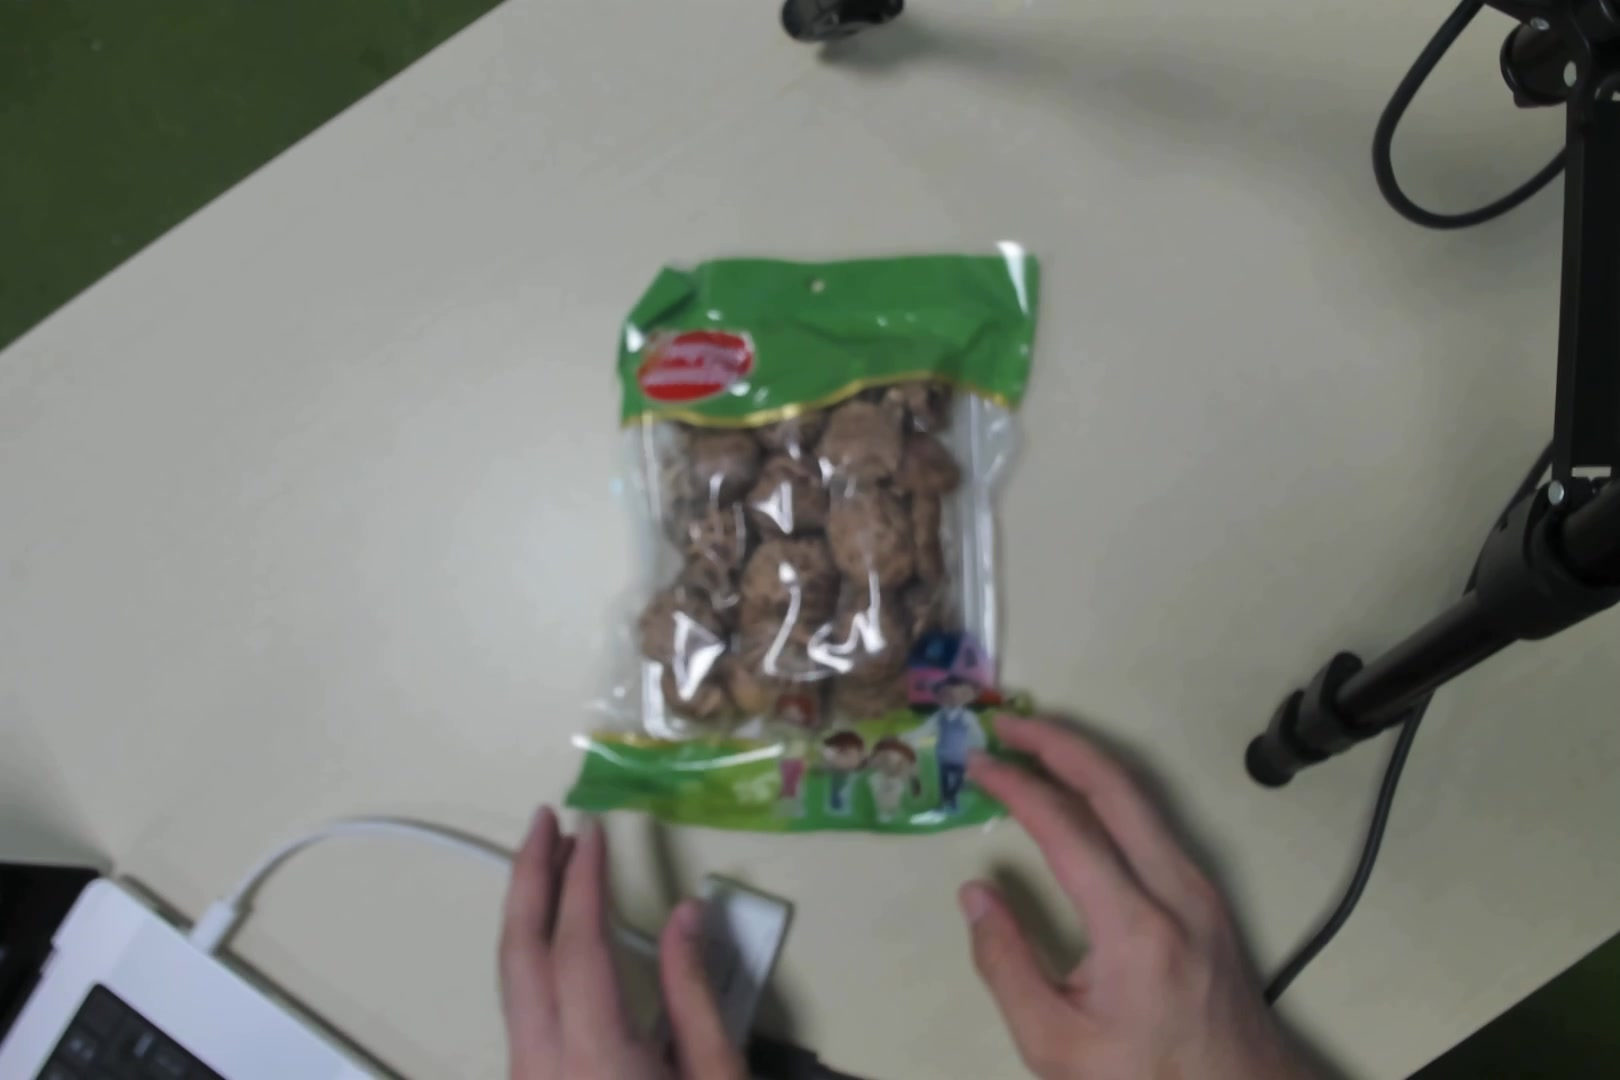OtherDriedFood_100-199g_NonHalal_NonHealthy: (597, 237, 974, 810)
